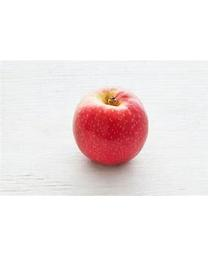apple: (71, 85, 149, 165)
